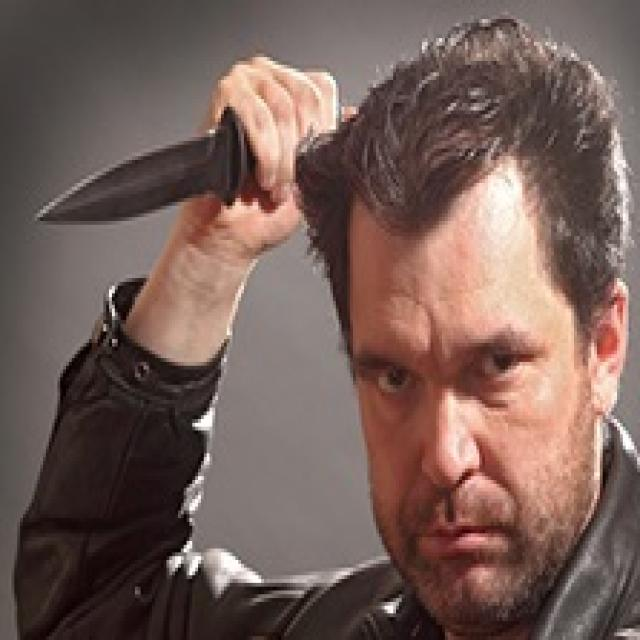knife: (28, 118, 236, 237)
